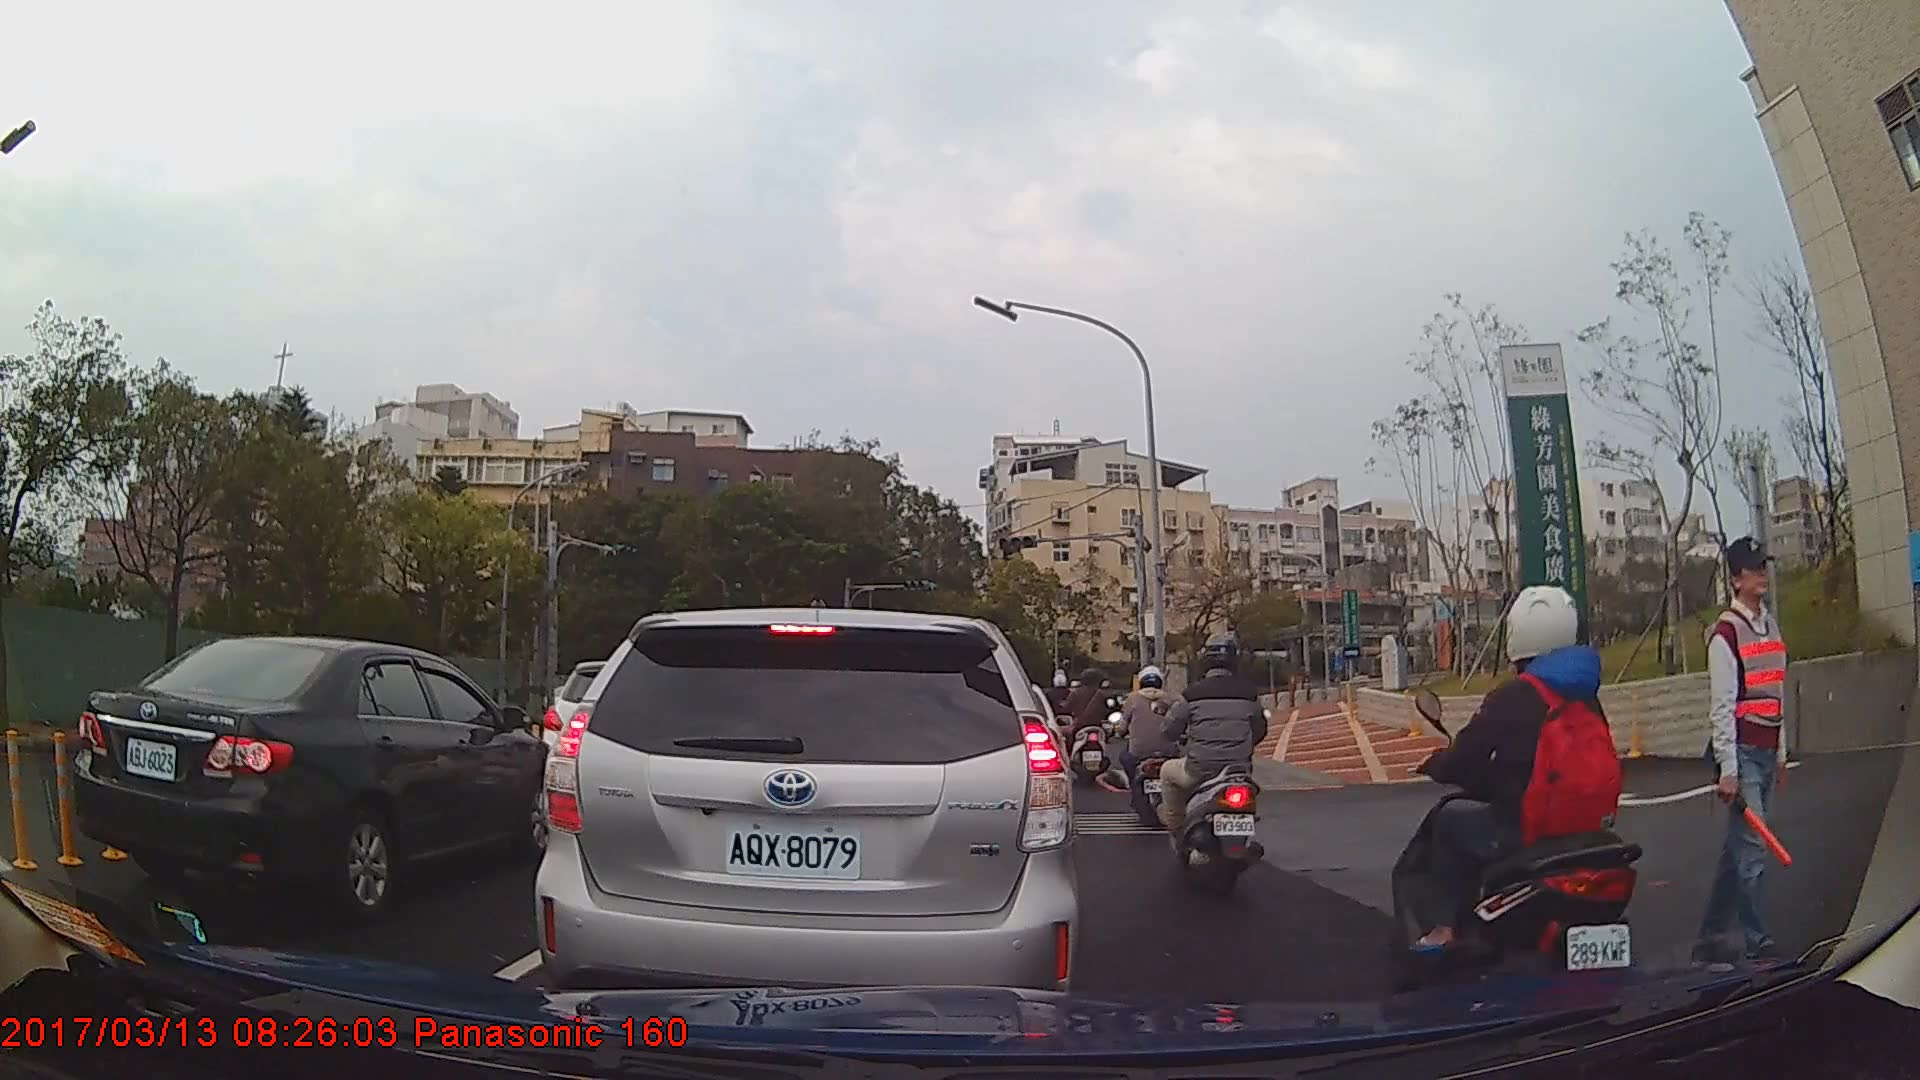pedestrian: (1700, 531, 1794, 969)
rider: (1391, 585, 1648, 1041), (1159, 633, 1274, 891), (1116, 665, 1184, 827), (1068, 667, 1118, 786), (1050, 672, 1081, 767)
vehicle: (533, 606, 1078, 1012), (73, 632, 558, 918)
